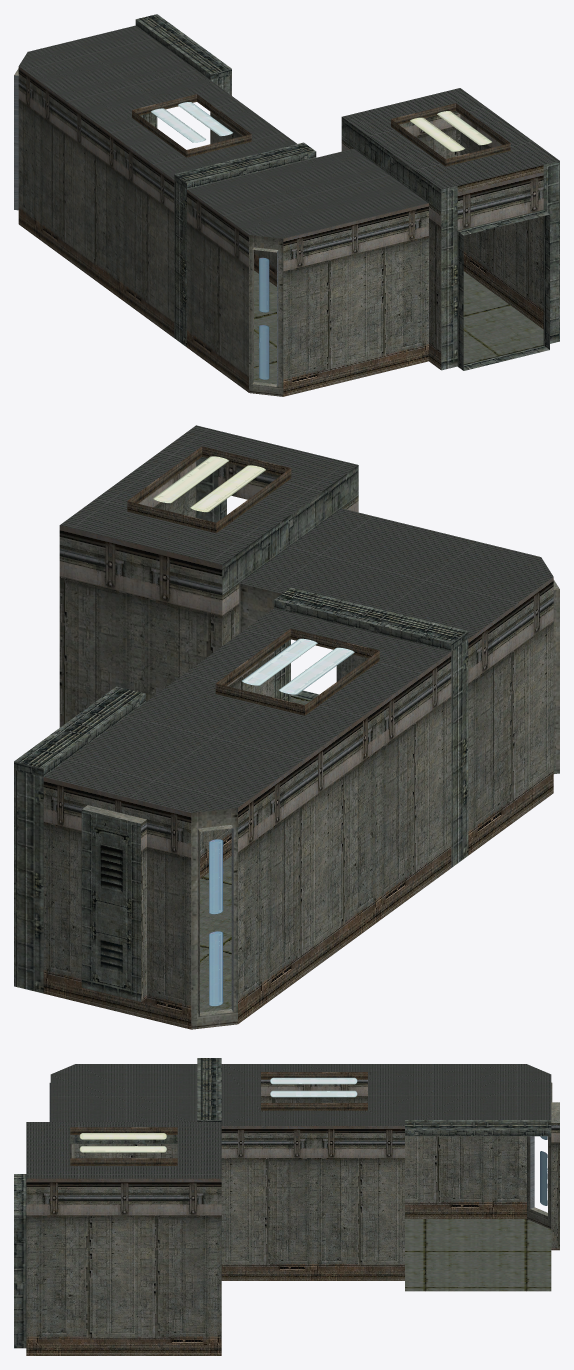
The model's file is poi_all_impl_bunker_crimelord_retreat_s01_r48_bunkerhall1_mesh_r48.fbx.
3 renders of one model, top to bottom at view 1: azimuth 30°, elevation 25°; view 2: azimuth 150°, elevation 25°; view 3: azimuth 270°, elevation 25°, orthographic. The views are drawn at different scales.
Visible parts, largest first — view 1: mesh_node; view 2: mesh_node; view 3: mesh_node.
Part boxes in pixels (x1,y1,x2,y2): mesh_node: [14, 14, 559, 396]; mesh_node: [14, 425, 559, 1029]; mesh_node: [14, 1058, 559, 1355].
Bounding box in the file's own units: 6.64 × 4.17 × 11.18.
